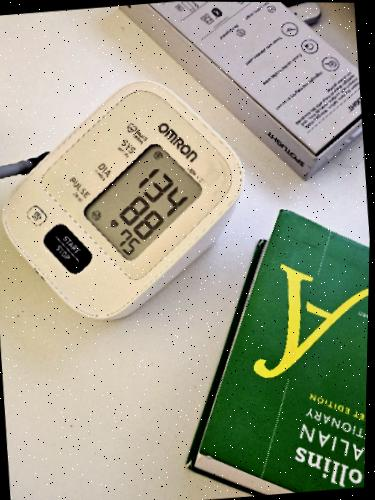bpm: (80, 139, 205, 264)
